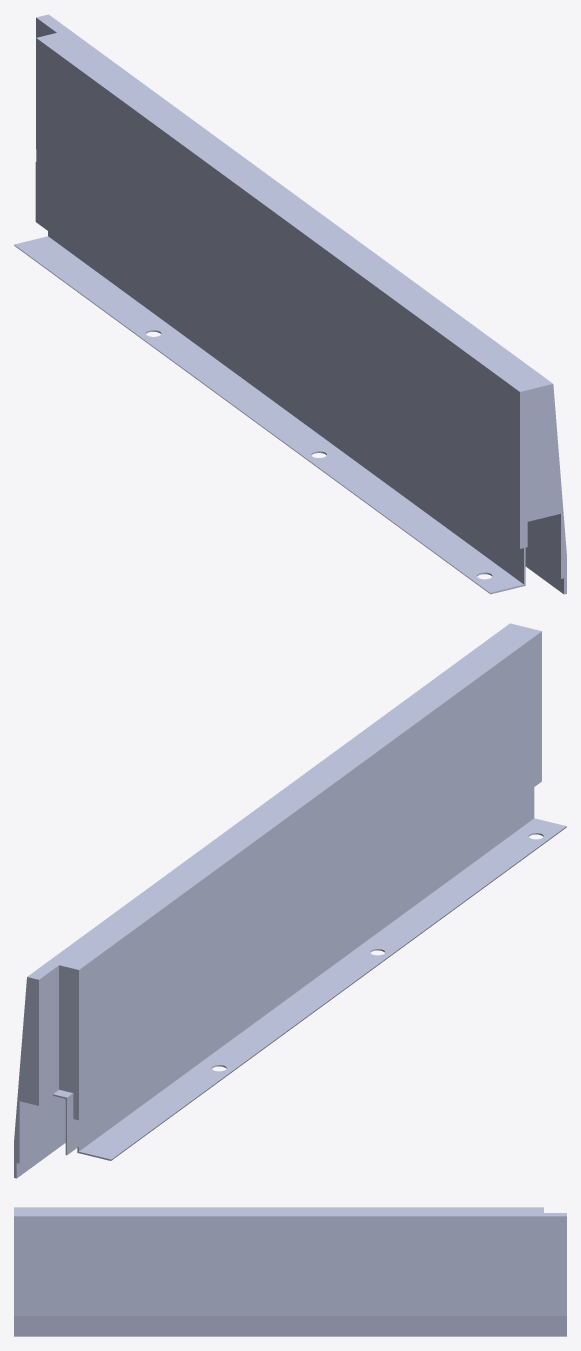
The model's file is mv-kava-M400-m.glb.
3 views of the same model, one above another, from view 1: azimuth 30°, elevation 25°; view 2: azimuth 150°, elevation 25°; view 3: azimuth 270°, elevation 25° (orthographic). The views are drawn at different scales.
Visible parts, largest first — view 1: 46960828; view 2: 46960828; view 3: 46960828.
Boxes of the visible parts, left/top/right/bottom form: 46960828: left=14, top=14, right=566, bottom=594; 46960828: left=14, top=623, right=566, bottom=1178; 46960828: left=14, top=1207, right=566, bottom=1336.
Bounding box in the file's own units: 0.0335 × 0.091 × 0.3902.
